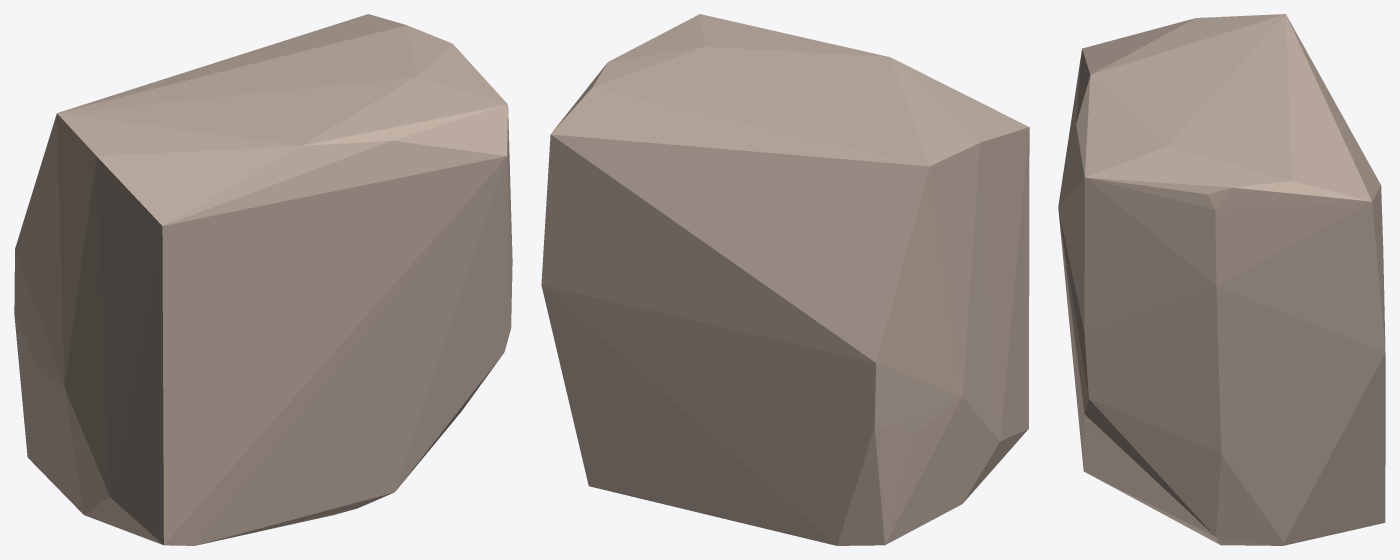
File: pallet_assembly_yellow_a01.glb
The picture shows the model from 3 angles, left to right: view 1: azimuth 30°, elevation 25°; view 2: azimuth 150°, elevation 25°; view 3: azimuth 270°, elevation 25°; orthographic projection. The views are drawn at different scales.
Visible parts, largest first — view 1: geometry_0; view 2: geometry_0; view 3: geometry_0.
Part boxes in pixels (x1,y1,x2,y2): geometry_0: (14, 14, 512, 545); geometry_0: (541, 14, 1029, 545); geometry_0: (1058, 14, 1385, 545).
Size of the model in its own units: 0.4775 by 0.4706 by 0.3592.
